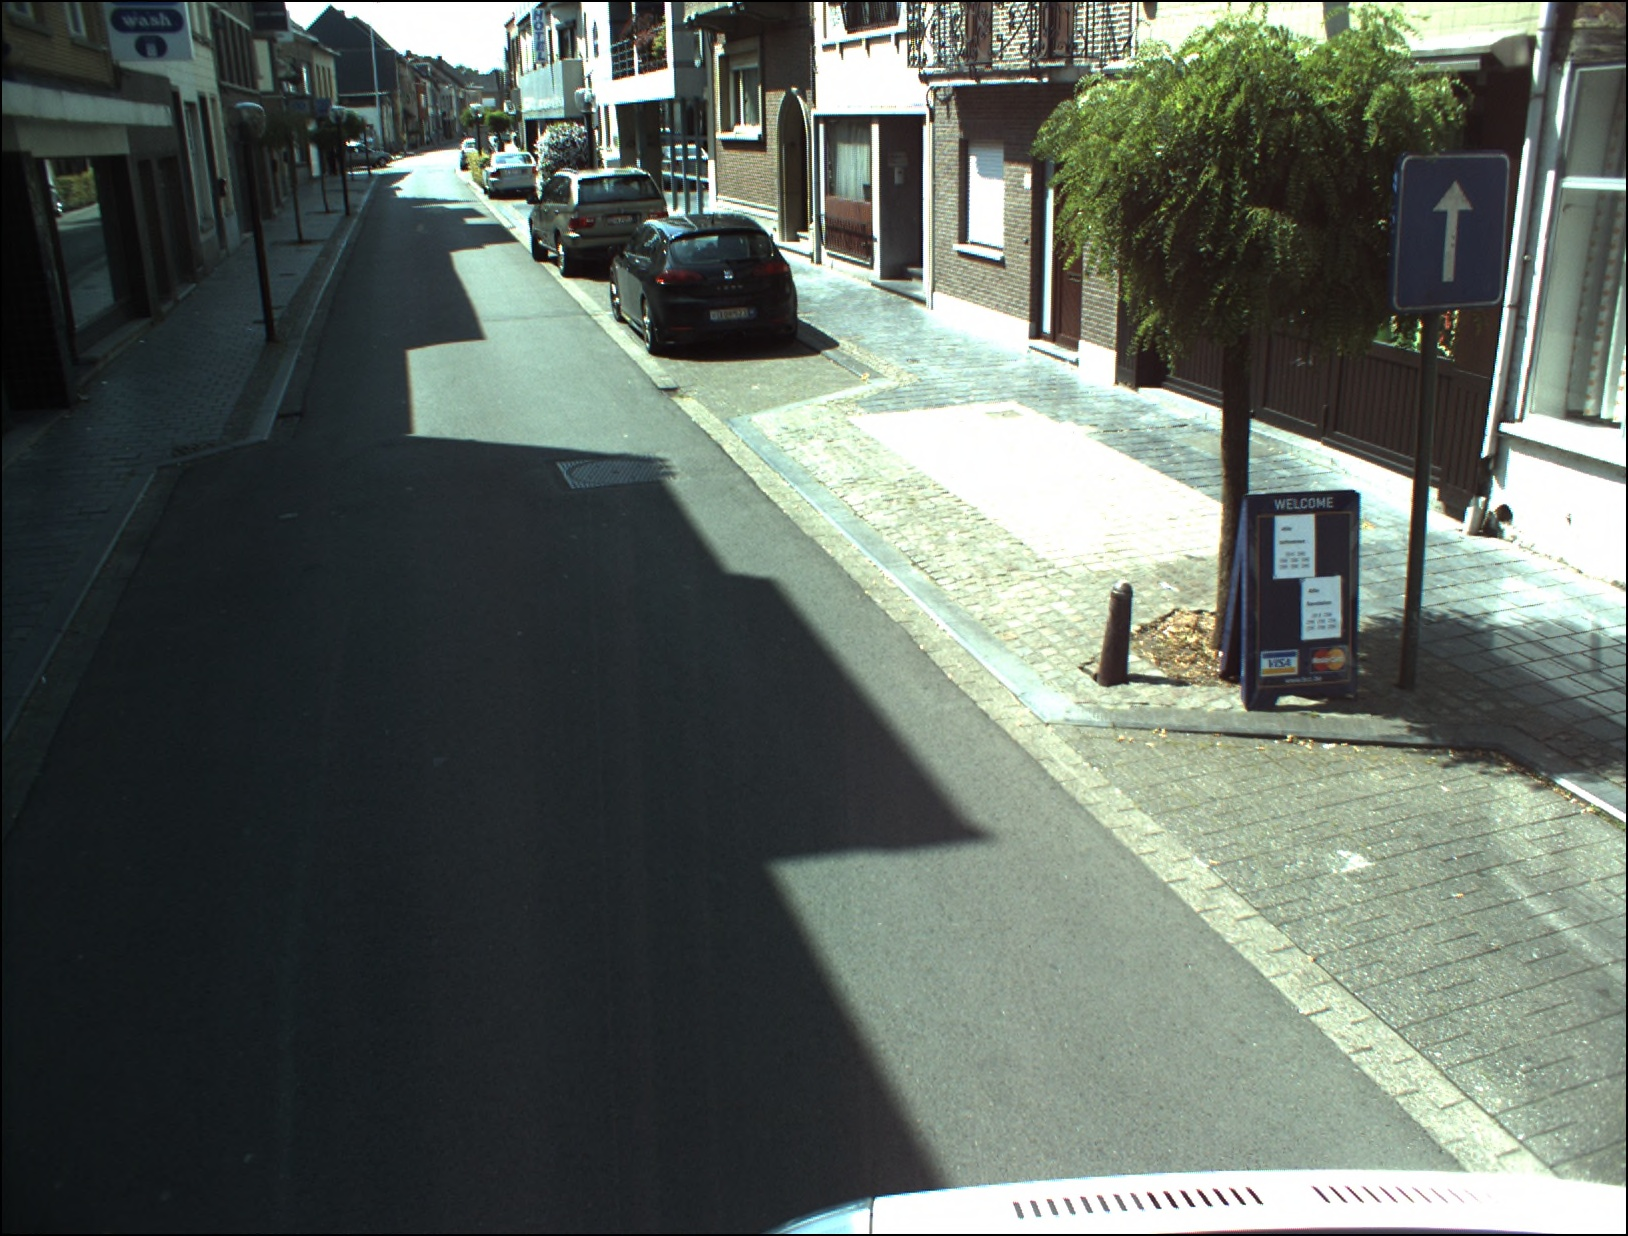oneway: (1397, 158, 1506, 308)
